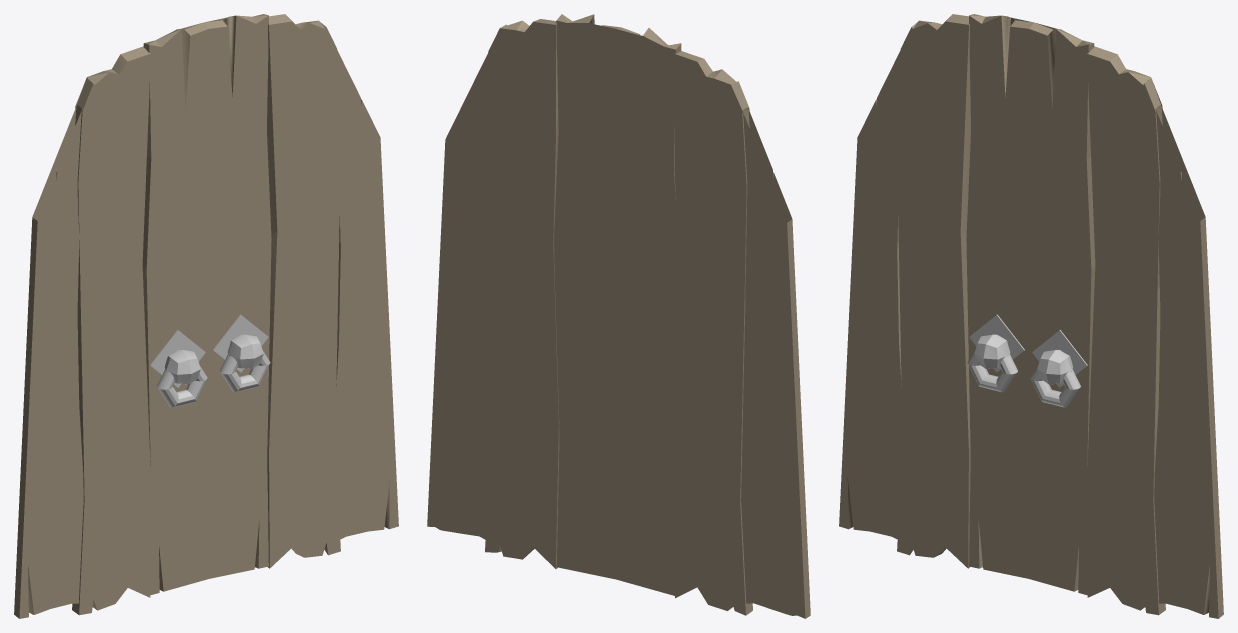
File: Дверь в дом.fbx
The picture shows the model from 3 angles, left to right: view 1: azimuth 30°, elevation 25°; view 2: azimuth 150°, elevation 25°; view 3: azimuth 330°, elevation 25°; orthographic projection.
Parts seen in each view (by area): view 1: Дверь_в_дом; view 2: Дверь_в_дом; view 3: Дверь_в_дом.
Boxes of the visible parts, left/top/right/bottom form: Дверь_в_дом: left=14, top=14, right=398, bottom=618; Дверь_в_дом: left=427, top=14, right=810, bottom=618; Дверь_в_дом: left=839, top=14, right=1223, bottom=618.
Bounding box in the file's own units: 205 × 290 × 19.03.
